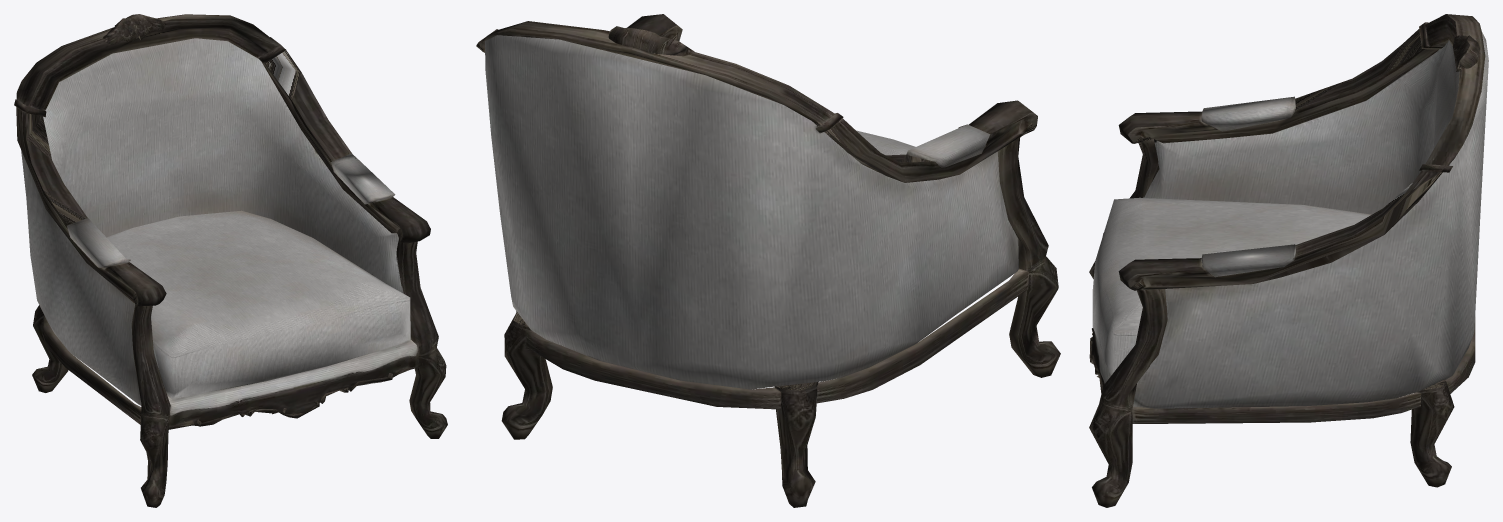
Rendered from ArmChair_01_lod2.glb.
3 views of the same model, side by side, from view 1: azimuth 30°, elevation 25°; view 2: azimuth 150°, elevation 25°; view 3: azimuth 270°, elevation 25° (orthographic). The views are drawn at different scales.
Parts seen in each view (by area): view 1: ArmChair_01; view 2: ArmChair_01; view 3: ArmChair_01.
Part boxes in pixels (x1=…): ArmChair_01: x1=14, y1=14, x2=447, y2=507; ArmChair_01: x1=476, y1=14, x2=1060, y2=507; ArmChair_01: x1=1089, y1=14, x2=1488, y2=507.
Bounding box in the file's own units: 0.8498 × 0.8981 × 0.8456.
Materials: 1 (1 with a texture image).
